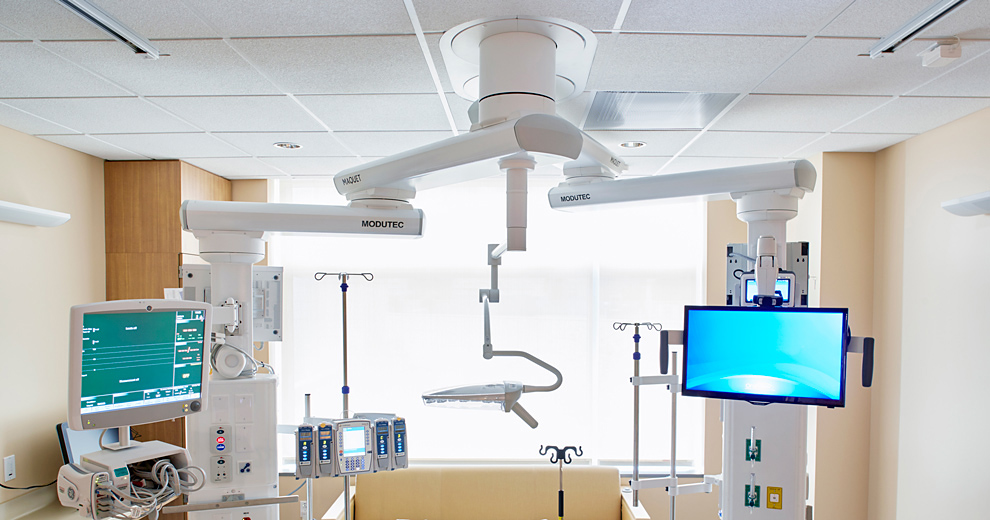TV: (681, 301, 850, 412)
bedside_monitor: (66, 298, 214, 433)
infusion_pump: (292, 416, 413, 478)
iv_pole: (314, 266, 375, 520), (611, 322, 664, 520), (537, 441, 584, 520)
surgical_light: (420, 380, 541, 432)
